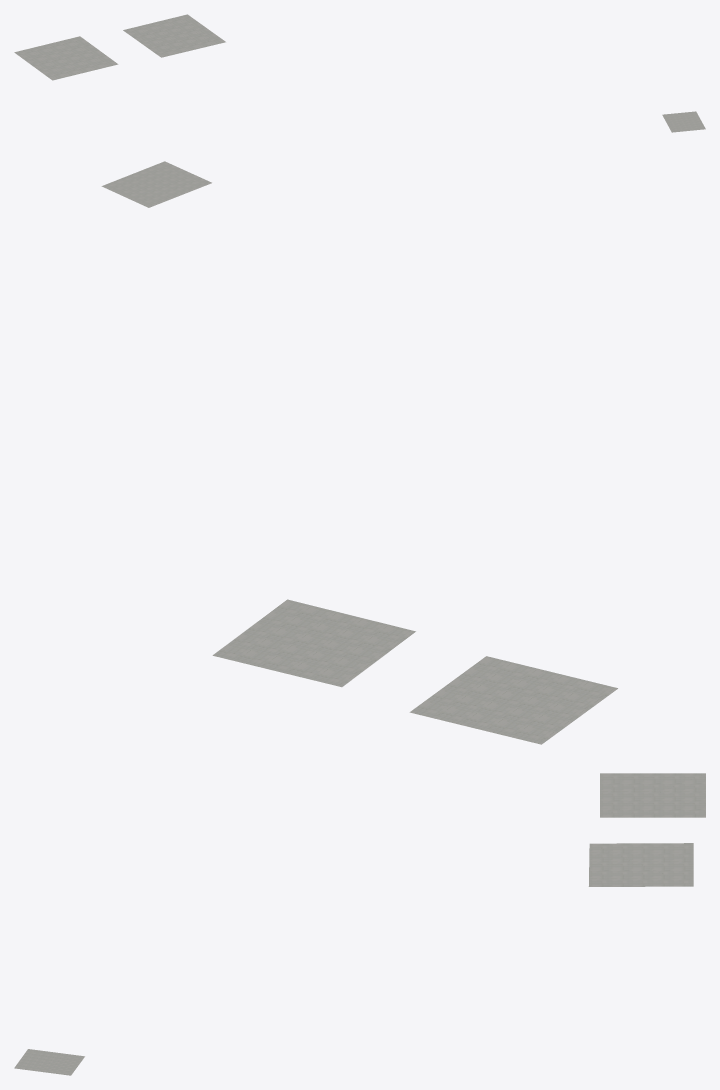
Rendered from kd_stage_1363c5_6_18.glb.
The picture shows the model from 3 angles, top to bottom: view 1: azimuth 30°, elevation 25°; view 2: azimuth 150°, elevation 25°; view 3: azimuth 270°, elevation 25°; orthographic projection. The views are drawn at different scales.
Visible parts, largest first — view 1: kd_stage_1363c5_6_18; view 2: kd_stage_1363c5_6_18; view 3: kd_stage_1363c5_6_18.
Boxes of the visible parts, <box> form: kd_stage_1363c5_6_18: <box>14,14,705,132</box>; kd_stage_1363c5_6_18: <box>101,161,617,744</box>; kd_stage_1363c5_6_18: <box>14,773,705,1075</box>.
Bounding box in the file's own units: 47.76 × 1.91e-05 × 46.17.
1 material, 1 textured.
